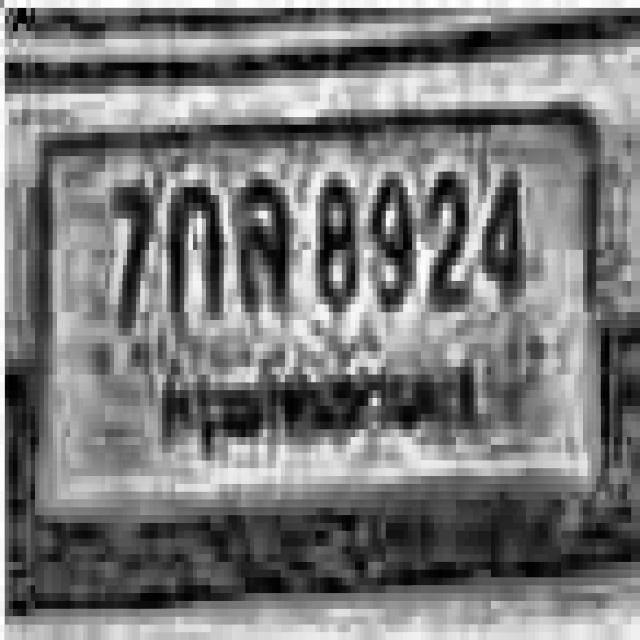license-plate: (30, 93, 613, 541)
